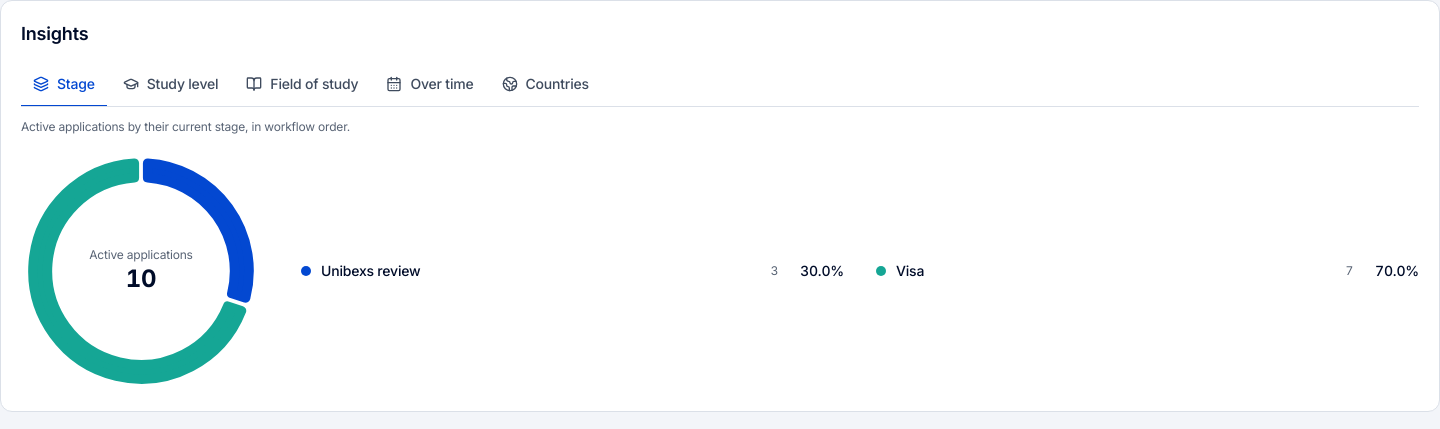
Test: says plainly when a chart has no data yet, and Advisors get no Advisor insights link
This screenshot has width=1440, height=429.
Step 1. Click the tab "Over time" → (430, 85), box [374, 63, 486, 107]
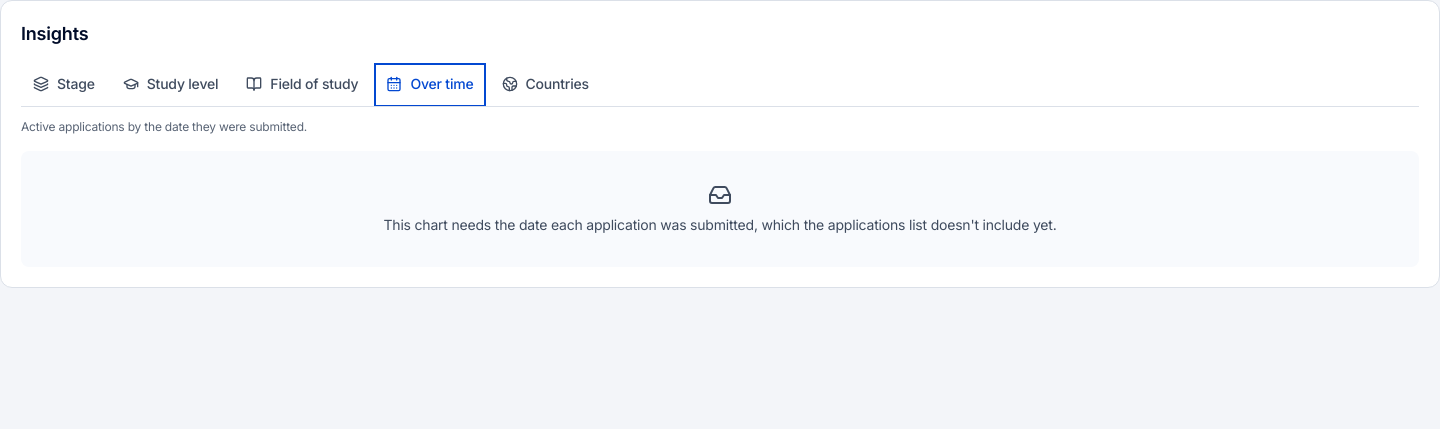
Check: the text "needs the date each application was submitted" is shown, box [384, 216, 1056, 233]
